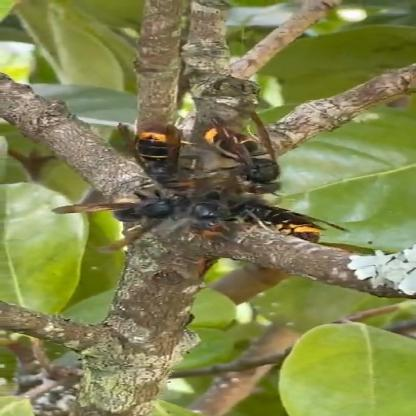bee: (69, 74, 340, 254)
